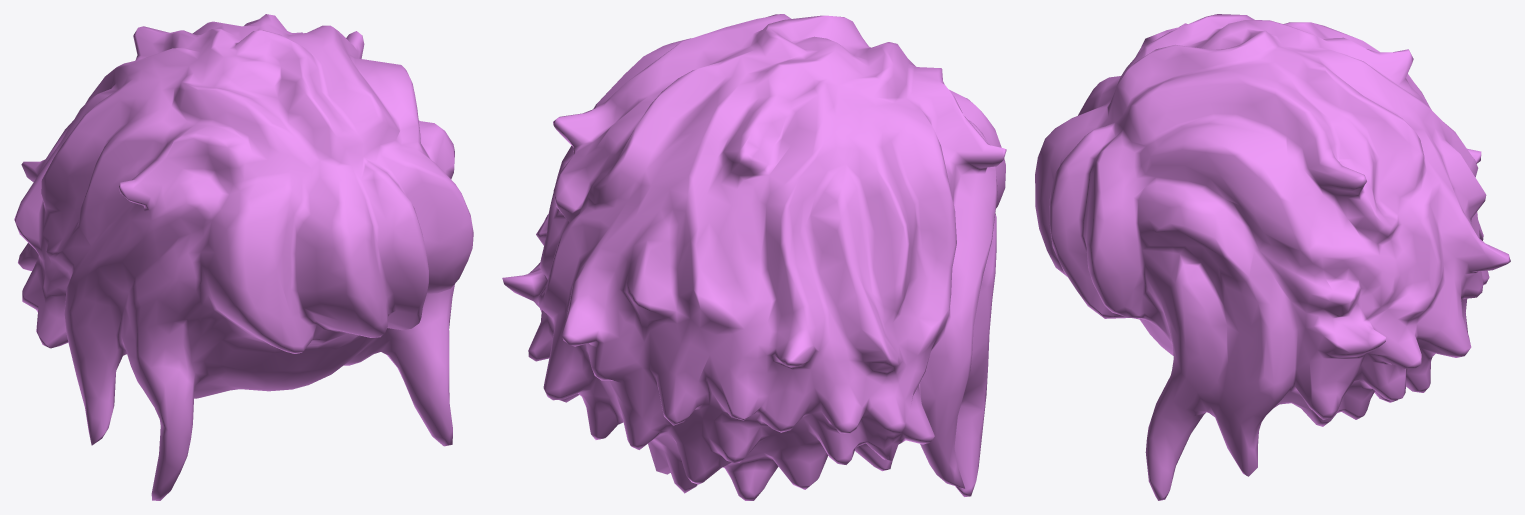
File: SM_Dx_Hair_Female_02.glb
3 views of the same model, side by side, from view 1: azimuth 30°, elevation 25°; view 2: azimuth 150°, elevation 25°; view 3: azimuth 270°, elevation 25° (orthographic). The views are drawn at different scales.
Parts seen in each view (by area): view 1: SM_ATB_Abbi__Hair_02; view 2: SM_ATB_Abbi__Hair_02; view 3: SM_ATB_Abbi__Hair_02.
Part boxes in pixels (left/top/right/bottom): SM_ATB_Abbi__Hair_02: left=14, top=14, right=473, bottom=500; SM_ATB_Abbi__Hair_02: left=502, top=14, right=1006, bottom=500; SM_ATB_Abbi__Hair_02: left=1035, top=14, right=1510, bottom=500.
Size of the model in its own units: 1.13 by 1.2 by 1.29.
